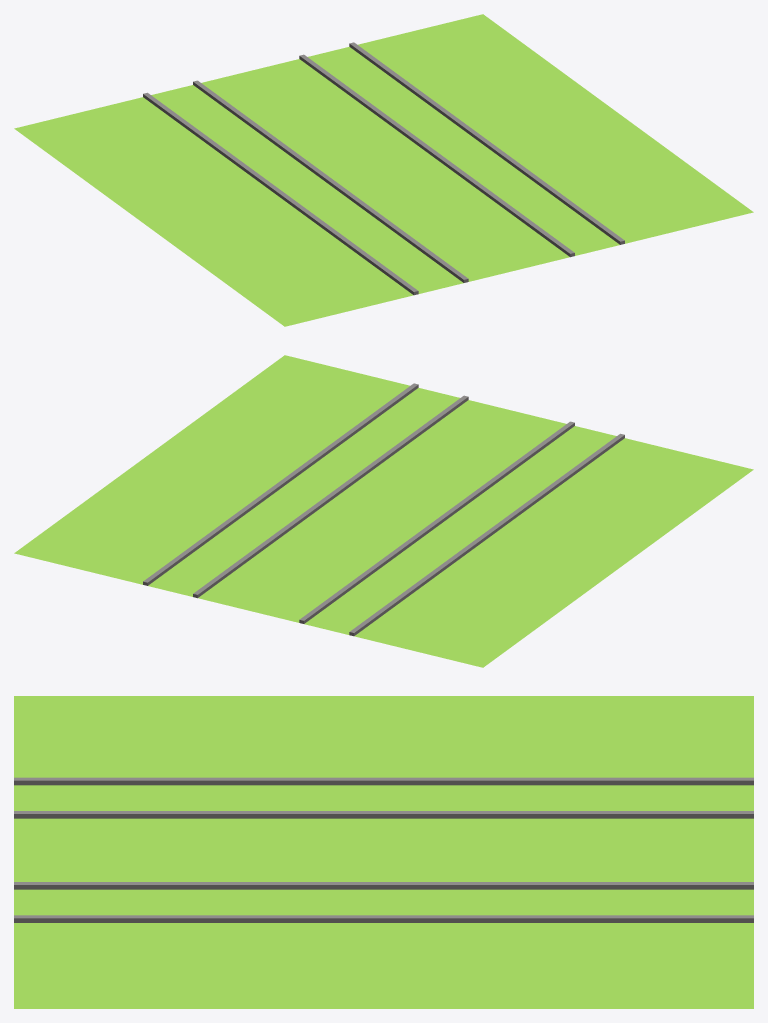
Rendered from tram_railway_002.glb.
The picture shows the model from 3 angles, top to bottom: view 1: azimuth 30°, elevation 25°; view 2: azimuth 150°, elevation 25°; view 3: azimuth 270°, elevation 25°; orthographic projection. The views are drawn at different scales.
Visible parts, largest first — view 1: tram_railway_002; view 2: tram_railway_002; view 3: tram_railway_002.
Part boxes in pixels (x1,y1,x2,y2): tram_railway_002: (14,14,753,326); tram_railway_002: (14,355,753,667); tram_railway_002: (14,696,753,1008).
Size of the model in its own units: 15 by 0.1 by 15.
Materials: 1 (1 with a texture image).
